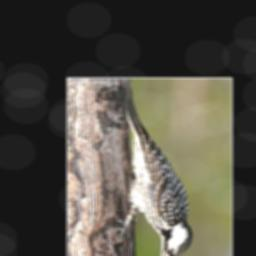Woodpecker: (107, 84, 193, 256)
